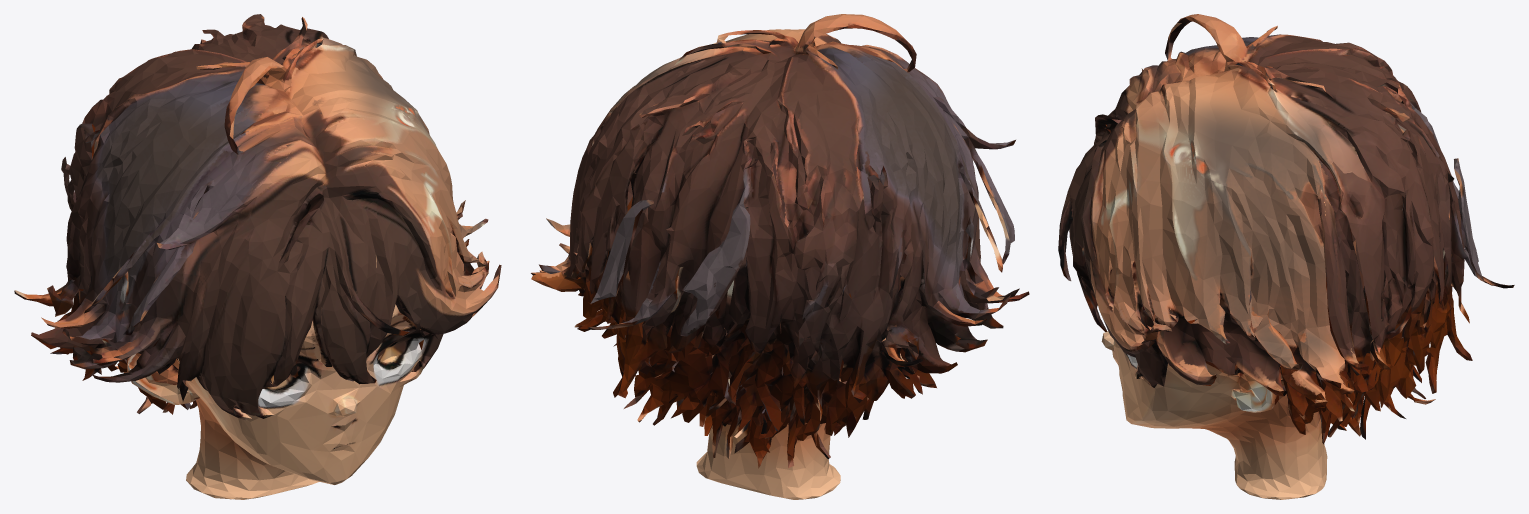
Rendered from side_kitechild_repaired_atlas.glb.
The picture shows the model from 3 angles, left to right: view 1: azimuth 30°, elevation 25°; view 2: azimuth 150°, elevation 25°; view 3: azimuth 270°, elevation 25°; orthographic projection. The views are drawn at different scales.
Parts seen in each view (by area): view 1: temp_mesh.ply; view 2: temp_mesh.ply; view 3: temp_mesh.ply.
Boxes of the visible parts, box(x1,y1,x2,y2) form: temp_mesh.ply: box(14, 14, 501, 499); temp_mesh.ply: box(531, 14, 1029, 499); temp_mesh.ply: box(1058, 14, 1514, 499).
Bounding box in the file's own units: 1.46 × 1.42 × 1.37.
Materials: 1 (1 with a texture image).
